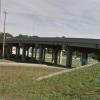Bridge: (4, 28, 91, 66)
